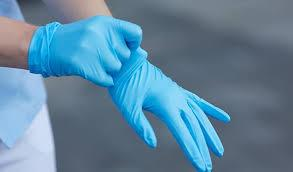Glove: (108, 48, 229, 171), (28, 16, 141, 86)
